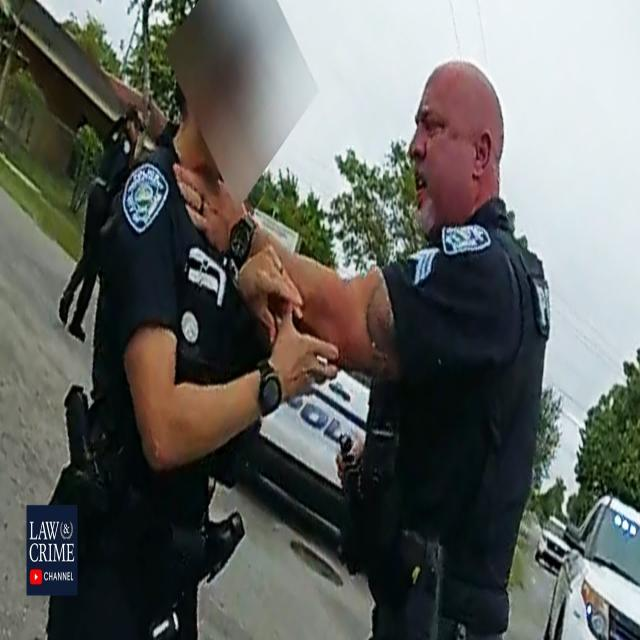police: (340, 29, 559, 640), (67, 1, 267, 640)
